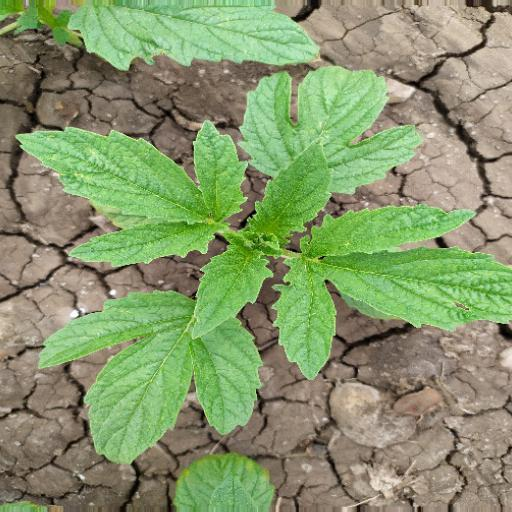crop: (10, 62, 512, 460)
